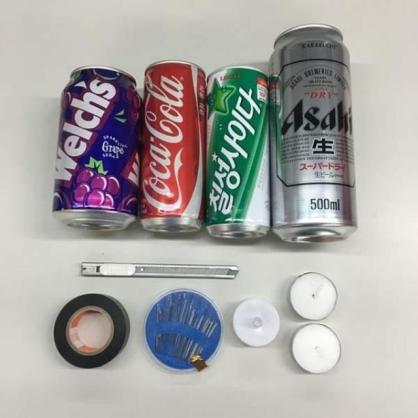can: (271, 21, 358, 244), (54, 64, 140, 225), (137, 59, 205, 232), (203, 64, 272, 234)
